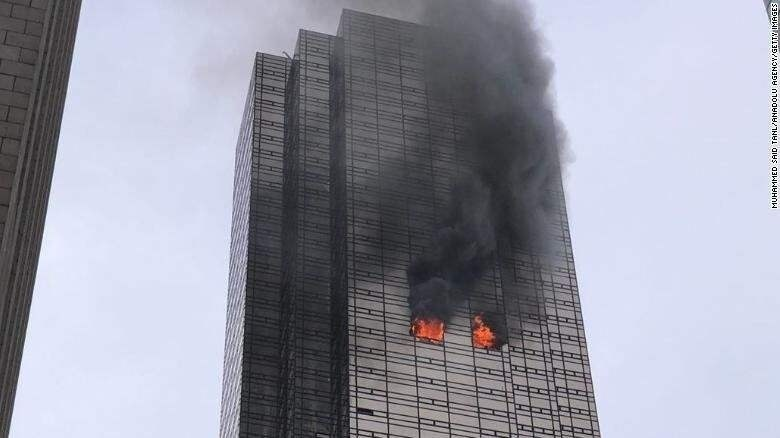fire: (411, 311, 446, 345), (470, 313, 498, 351)
